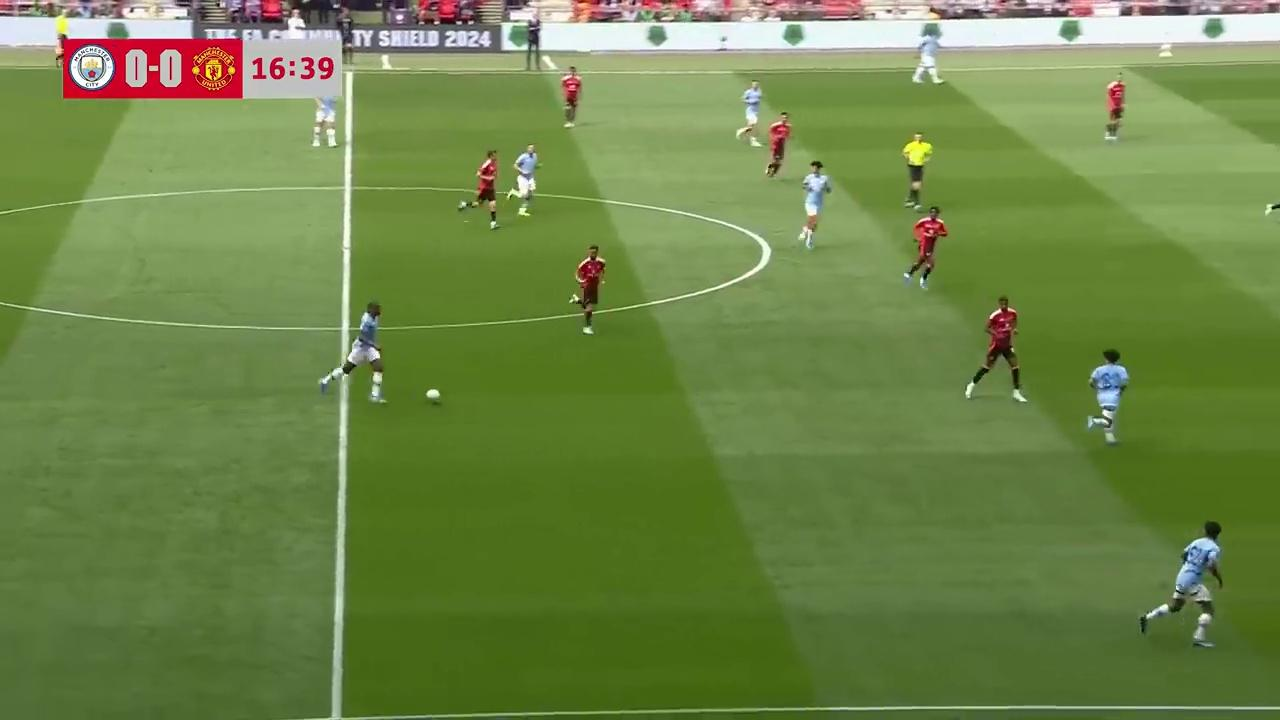ball: (424, 385, 442, 404)
player: (1143, 522, 1223, 648), (965, 295, 1028, 404), (339, 301, 387, 405), (1085, 349, 1129, 446), (902, 206, 948, 291), (570, 244, 606, 334), (460, 149, 500, 229), (798, 160, 831, 250), (901, 130, 932, 208), (511, 143, 540, 217), (764, 111, 792, 179), (736, 80, 763, 146), (311, 89, 337, 148), (1104, 75, 1126, 142), (559, 64, 581, 128), (911, 36, 940, 84)
referee: (901, 130, 932, 208)
